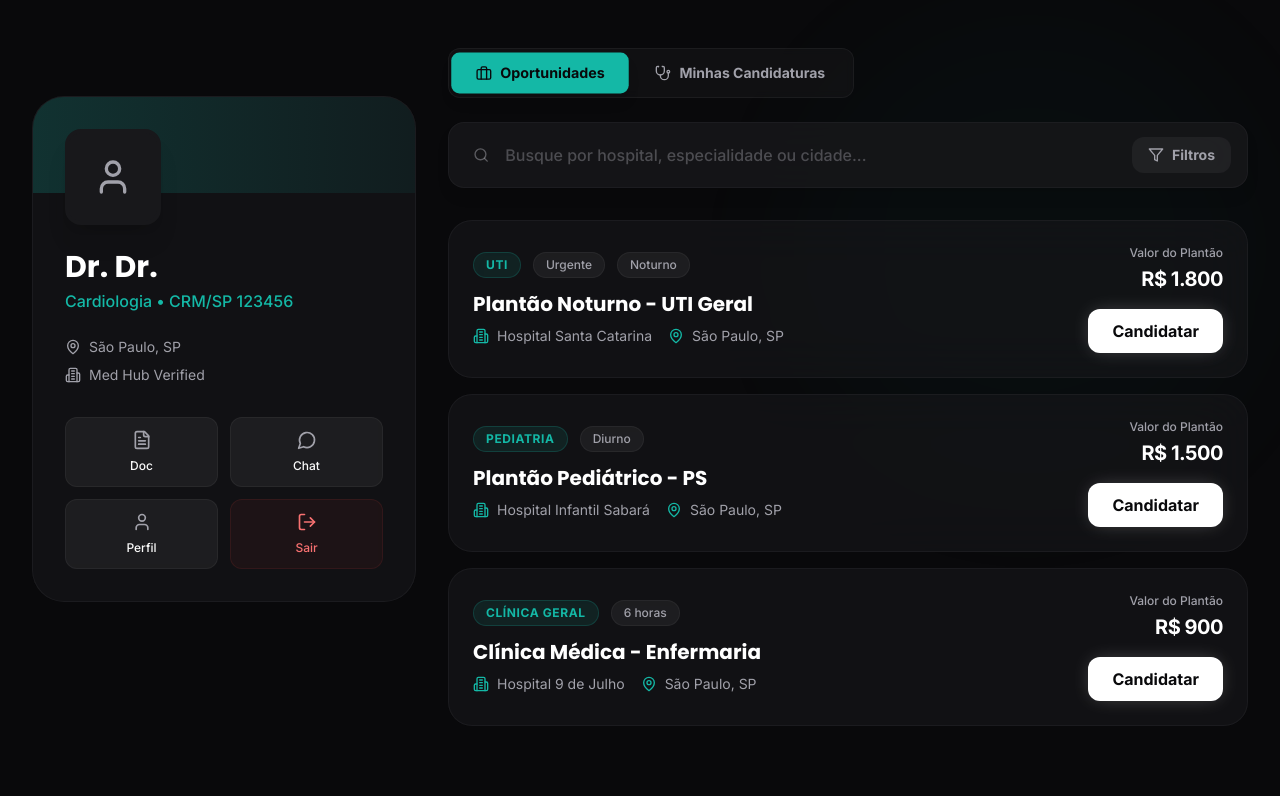
Test case: Dashboard Doctor › switches tabs correctly
The width and height of the screenshot is (1280, 796).
Click the button "Minhas Candidaturas" at (740,73), box [632, 53, 849, 93]
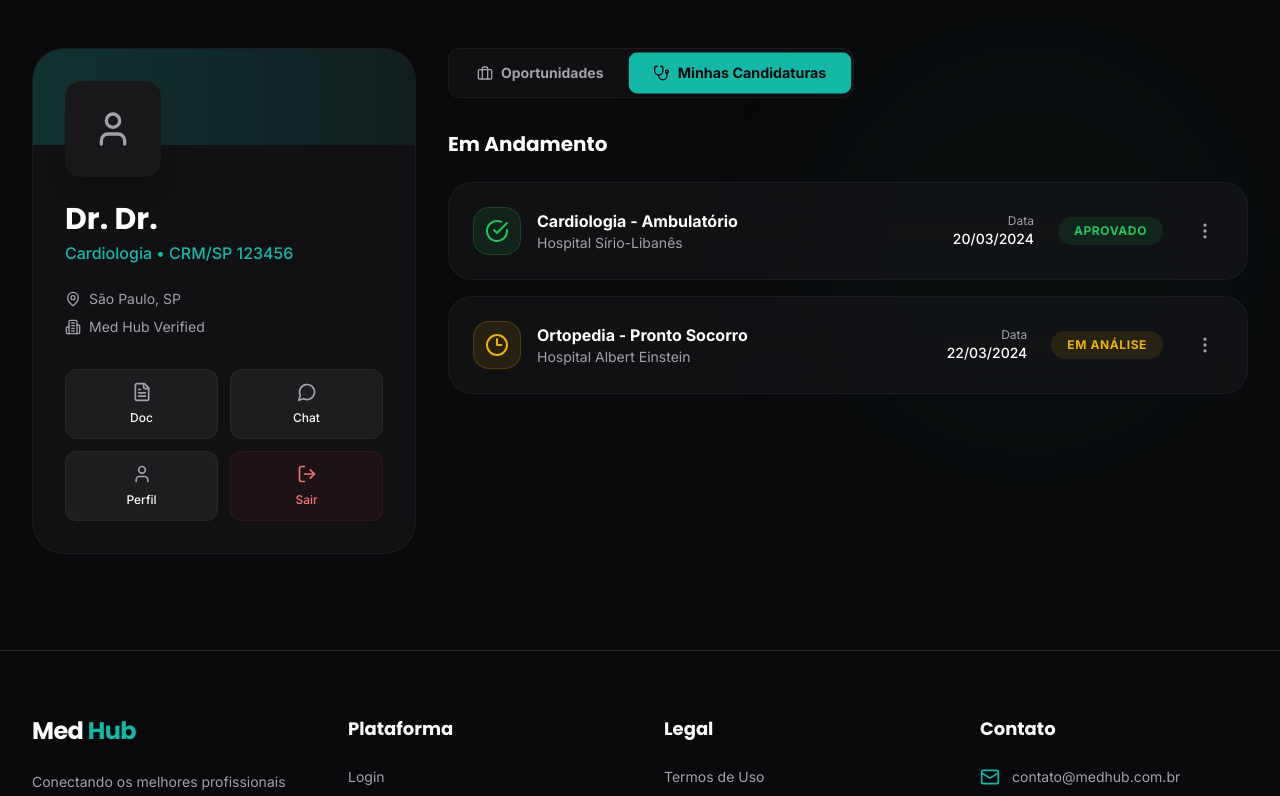
Check: the heading "Em Andamento" is shown, box [448, 130, 608, 158]
